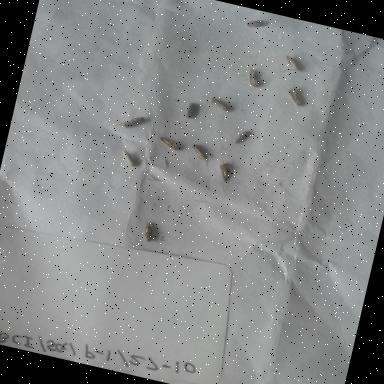pbw: (213, 158, 236, 188), (187, 142, 213, 168), (116, 110, 146, 132), (284, 82, 308, 108), (206, 96, 234, 114), (244, 67, 264, 91), (138, 220, 158, 244), (232, 126, 253, 148), (244, 15, 269, 32), (119, 148, 140, 168), (156, 136, 182, 152), (282, 55, 304, 73), (182, 100, 200, 121)
